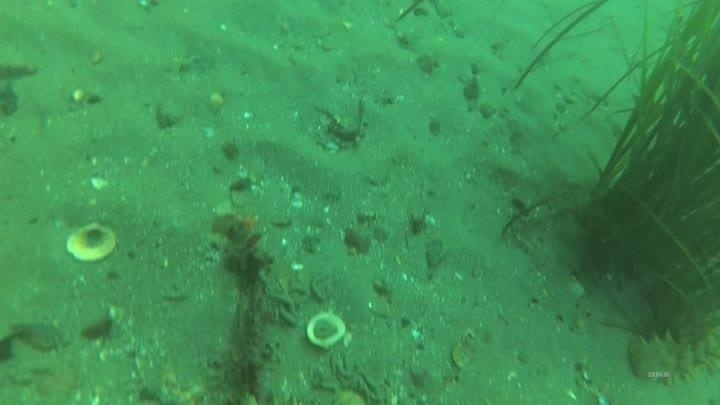holothurian: (625, 321, 720, 386)
